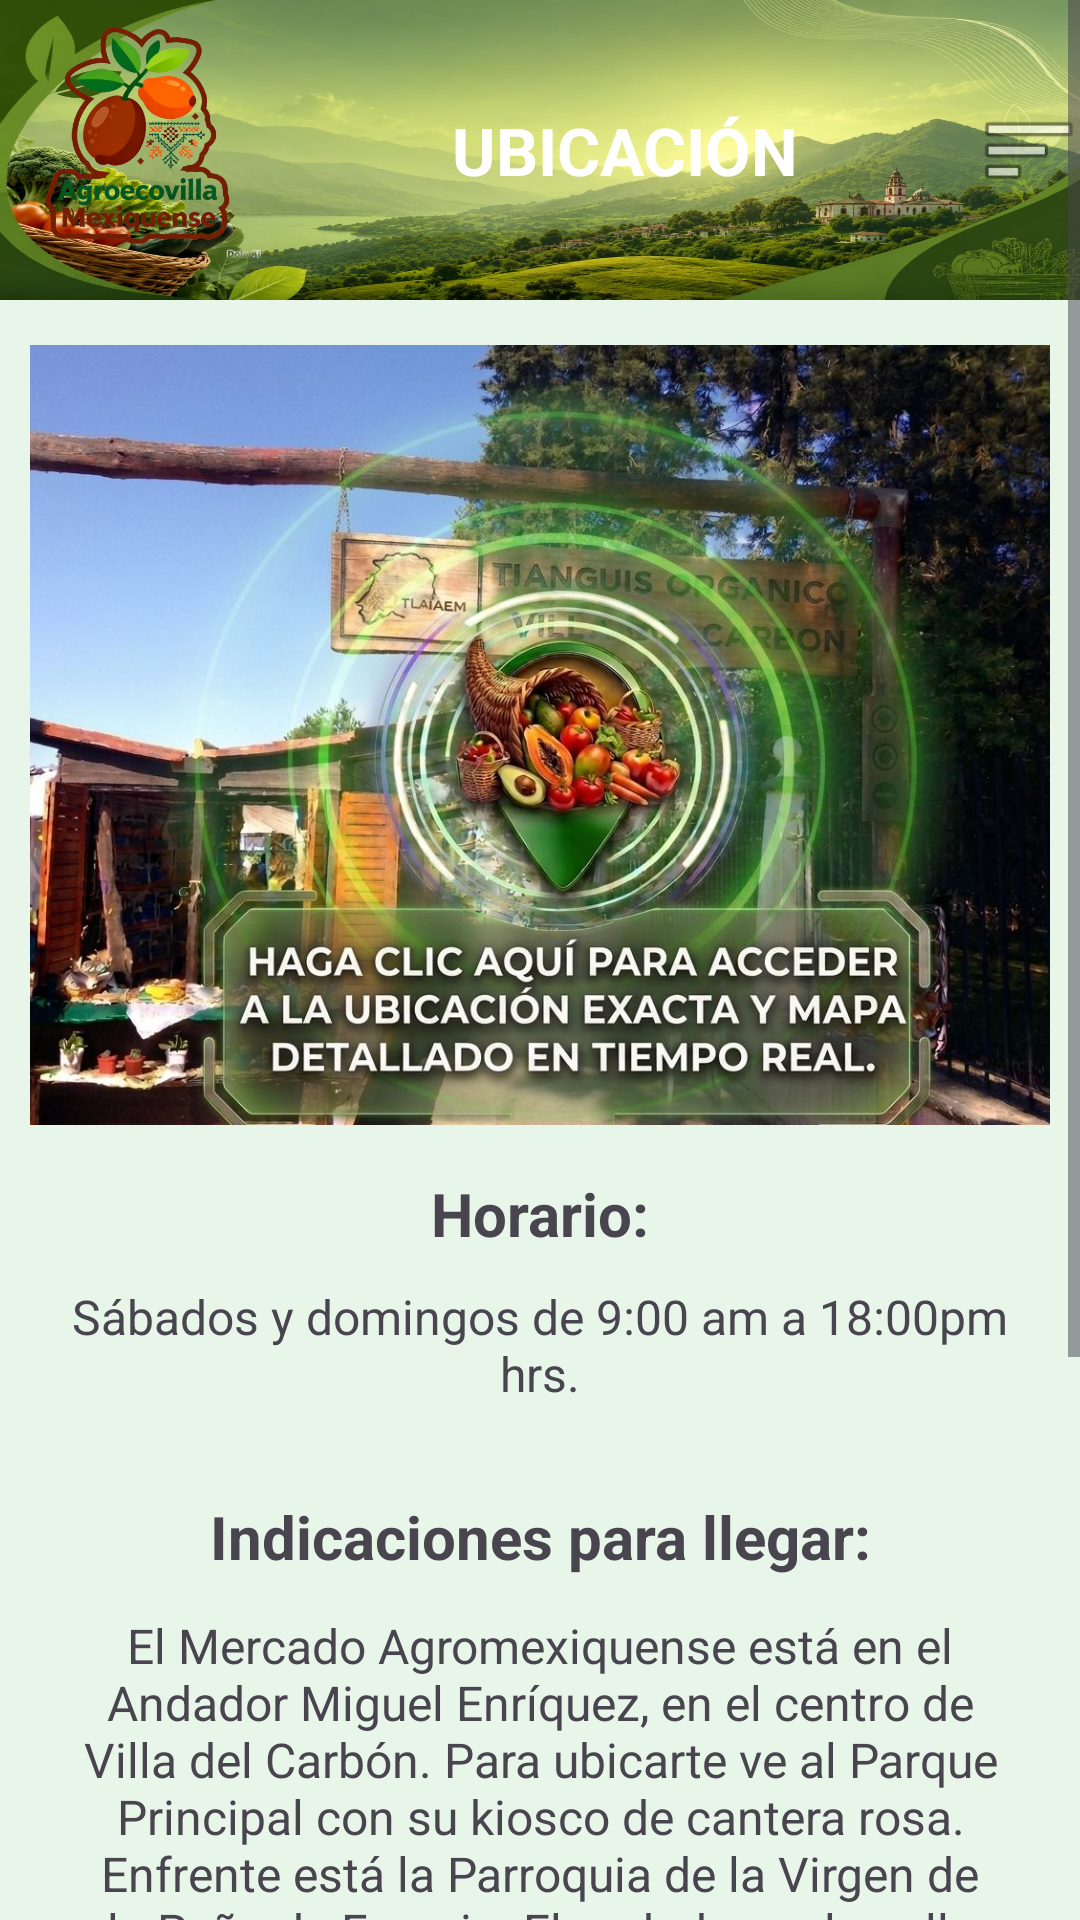

Point at icon controls on the screen. Image size 1080px×1920px, points as (x=x, y=y).
sort by size: (x=1029, y=150)
